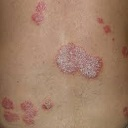Psoriasis: (57, 47, 102, 77), (1, 99, 34, 127), (33, 2, 50, 23)
